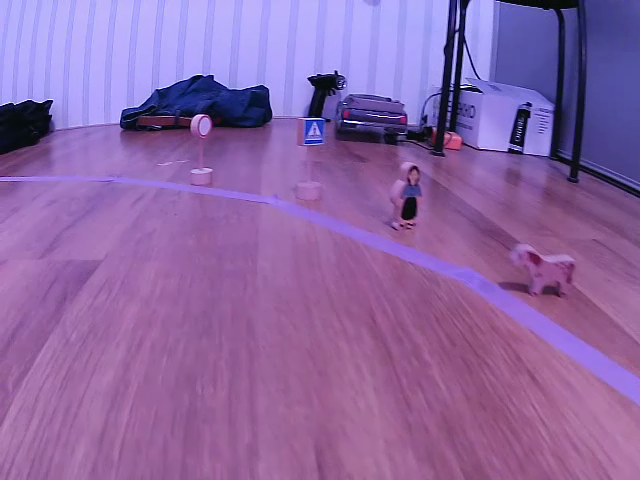mens: (389, 162, 423, 229)
paard: (508, 242, 578, 299)
wegdicht: (193, 116, 211, 139)
zebrapad: (297, 118, 324, 147)
